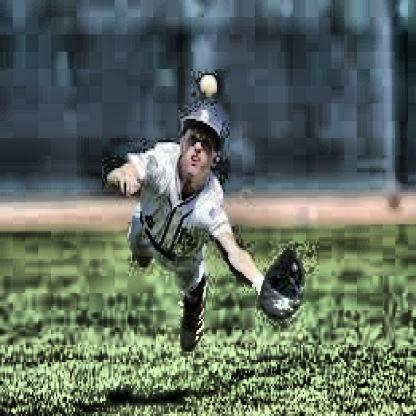baseball: (202, 73, 218, 97)
